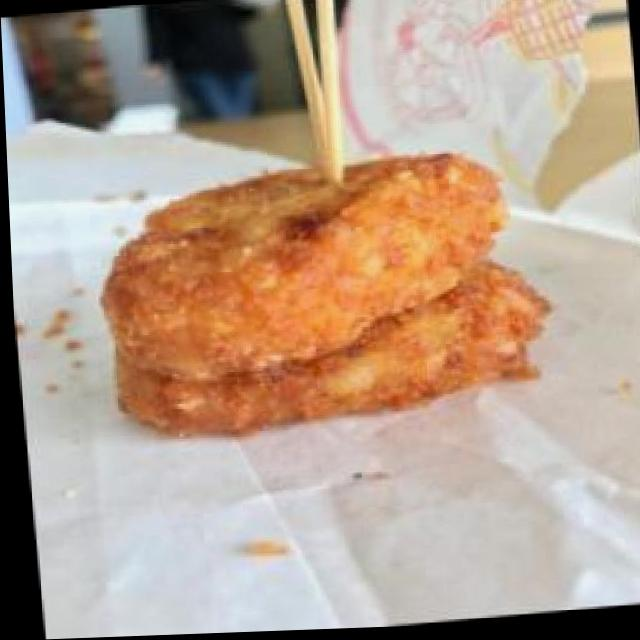triangle_hash_brown: (96, 158, 539, 445)
